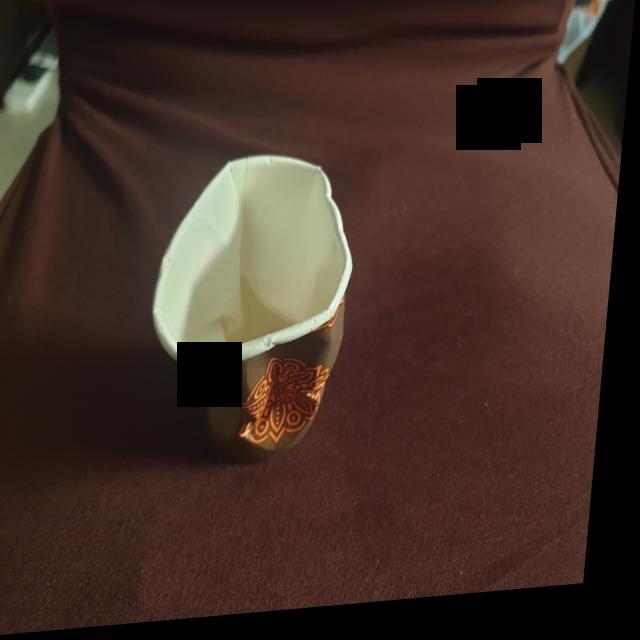cups: (139, 140, 372, 475)
